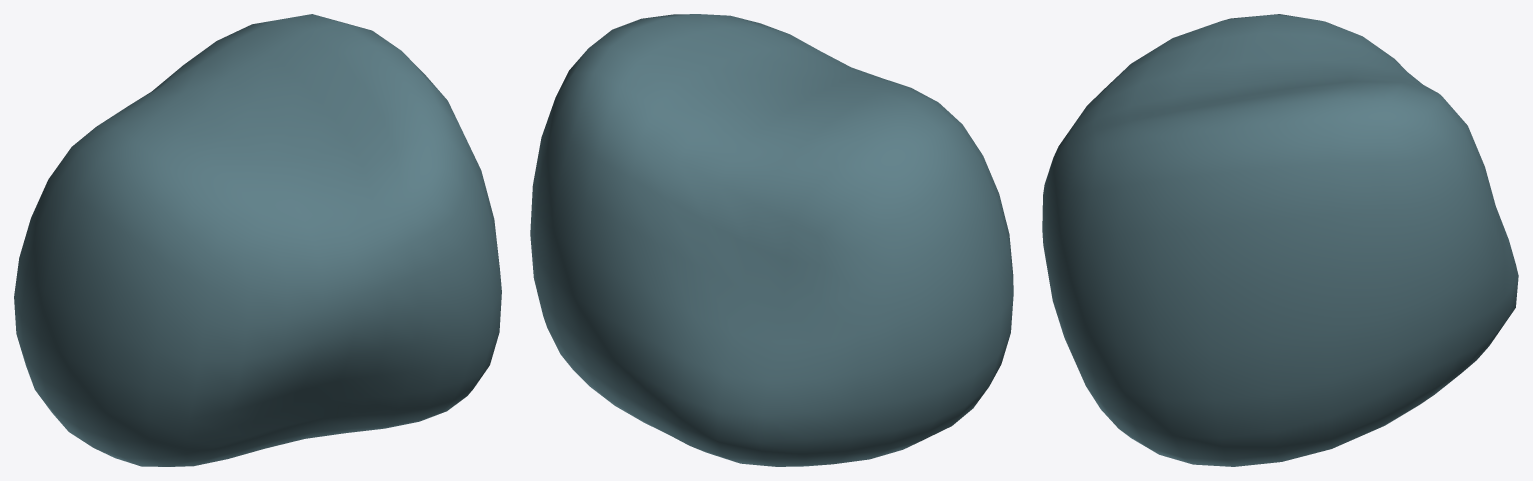
File: Rock_C_03.fbx
3 views of the same model, side by side, from view 1: azimuth 30°, elevation 25°; view 2: azimuth 150°, elevation 25°; view 3: azimuth 270°, elevation 25° (orthographic). The views are drawn at different scales.
Visible parts, largest first — view 1: Rock_C_03_LOD0; view 2: Rock_C_03_LOD0; view 3: Rock_C_03_LOD0.
Part boxes in pixels (x1,y1,x2,y2): Rock_C_03_LOD0: (14,14,501,466); Rock_C_03_LOD0: (530,14,1013,466); Rock_C_03_LOD0: (1042,14,1518,466).
Size of what is drawn, in the model's own units: 448 by 354 by 425.
